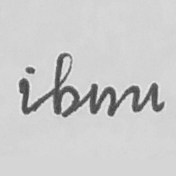b: (51, 50, 81, 119)
i: (16, 64, 38, 117)
n: (86, 80, 119, 119)
u: (128, 79, 163, 115)
